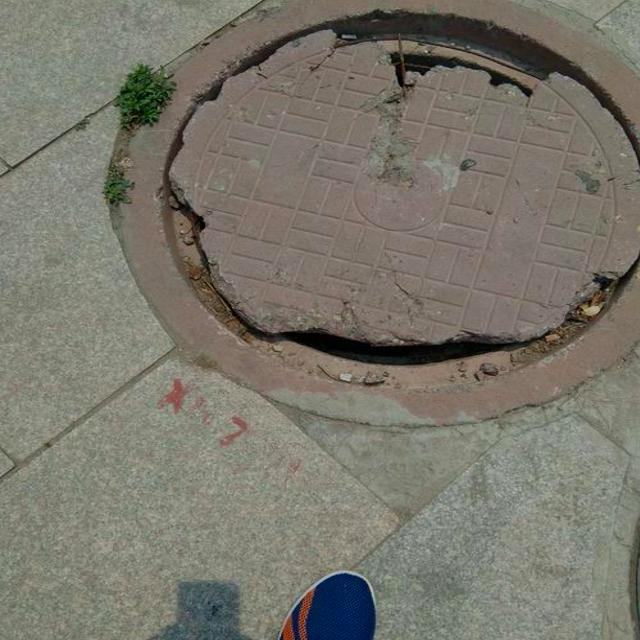broke: (101, 0, 640, 433)
